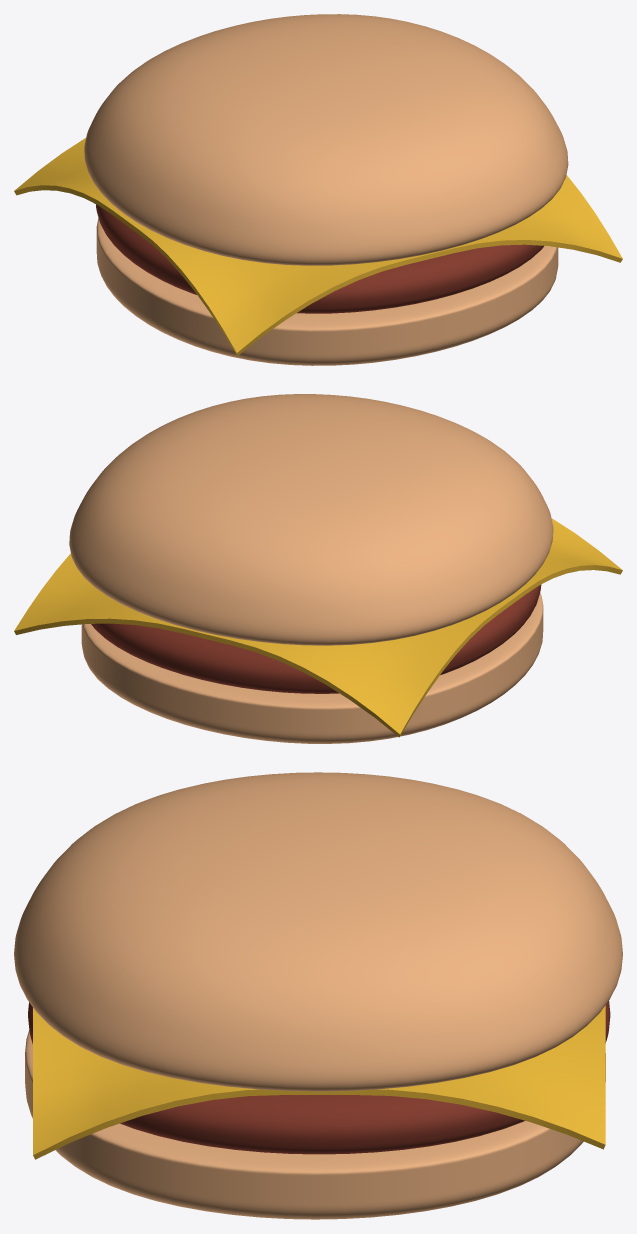
Rendered from hamburger.glb.
The picture shows the model from 3 angles, top to bottom: view 1: azimuth 30°, elevation 25°; view 2: azimuth 150°, elevation 25°; view 3: azimuth 270°, elevation 25°; orthographic projection. The views are drawn at different scales.
Visible parts, largest first — view 1: Cube.002, Cube, Plane, Cube.001; view 2: Cube.002, Cube, Plane, Cube.001; view 3: Cube.002, Cube, Plane, Cube.001.
Part boxes in pixels (<box>): Cube.002: <box>84,14,568,265</box>; Cube: <box>96,218,558,365</box>; Plane: <box>14,138,622,355</box>; Cube.001: <box>96,204,543,313</box>; Cube.002: <box>69,394,553,645</box>; Cube: <box>81,593,543,743</box>; Plane: <box>14,518,622,737</box>; Cube.001: <box>91,585,541,693</box>; Cube.002: <box>14,772,622,1091</box>; Cube: <box>25,1030,605,1219</box>; Plane: <box>33,1005,605,1159</box>; Cube.001: <box>28,1001,610,1154</box>.
Size of the model in its own units: 9.03 by 4.68 by 9.03.
